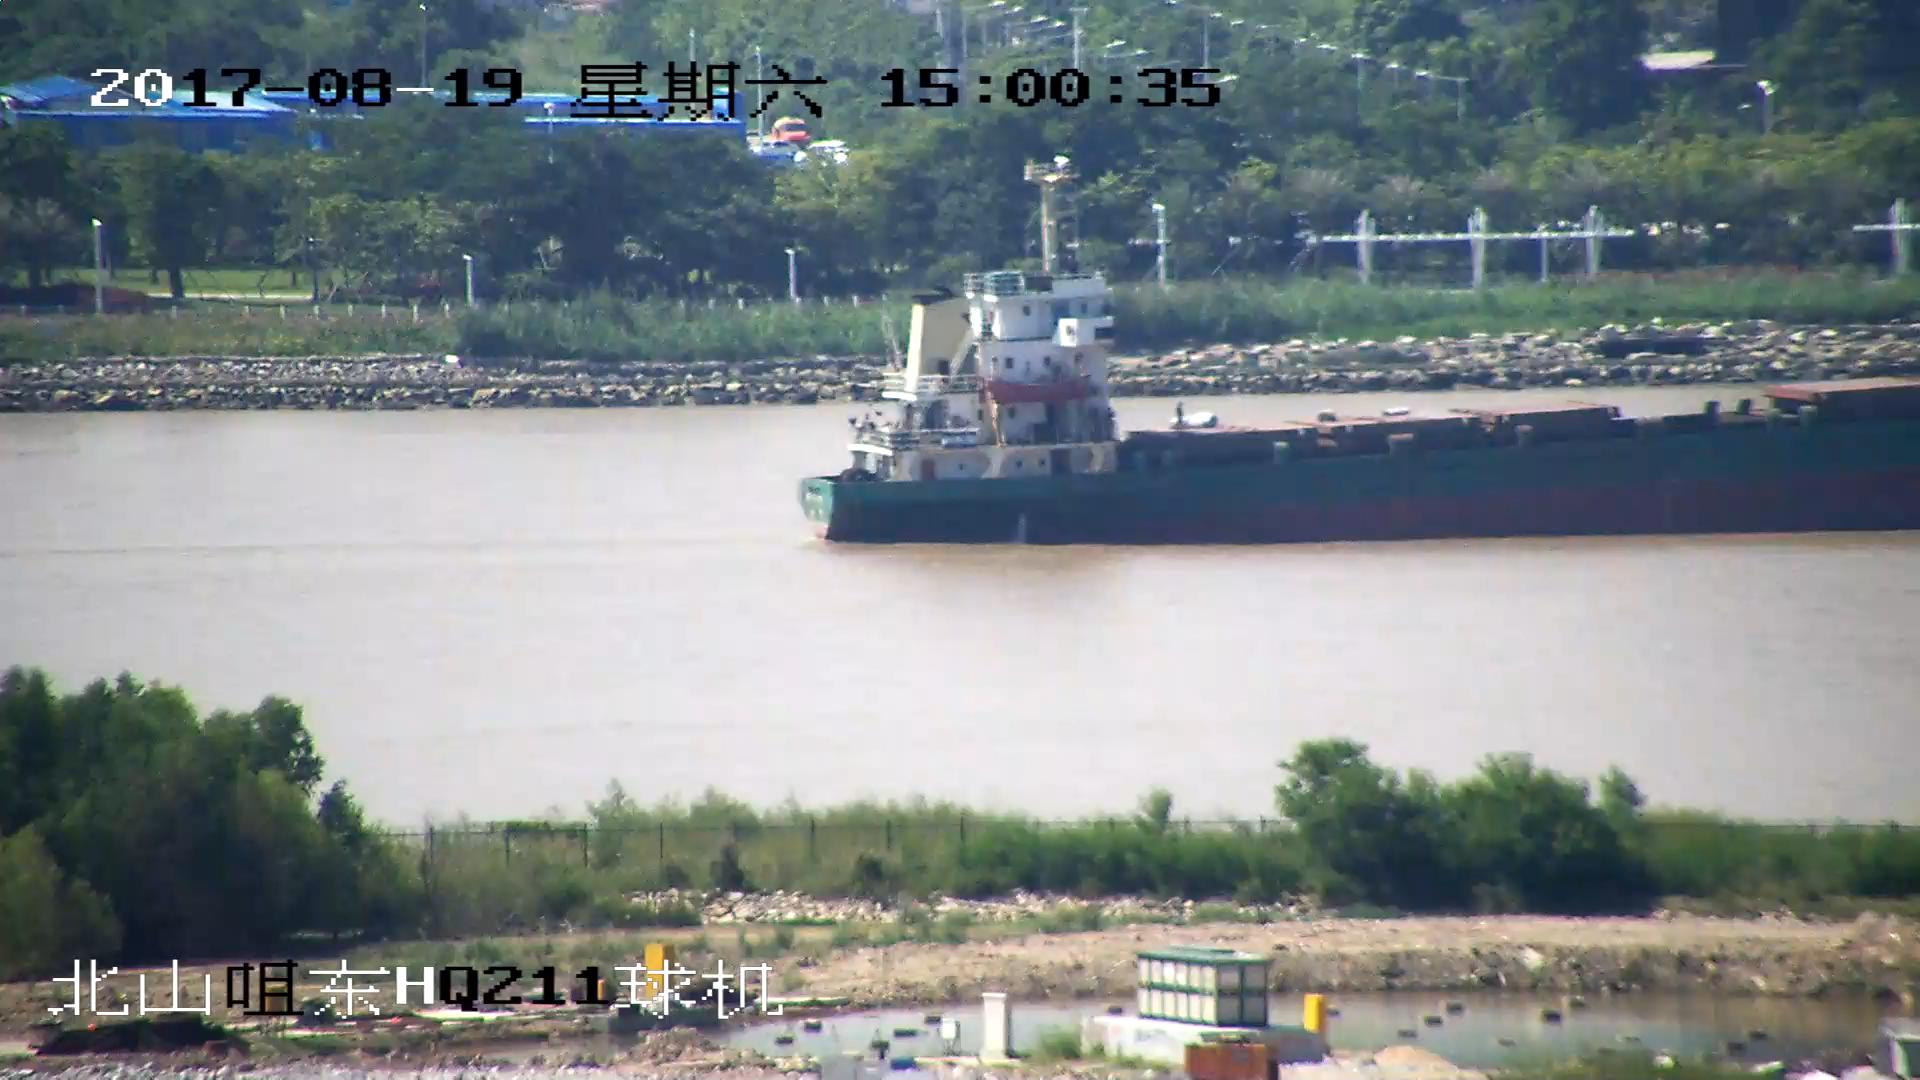general cargo ship: (806, 196, 1920, 539)
